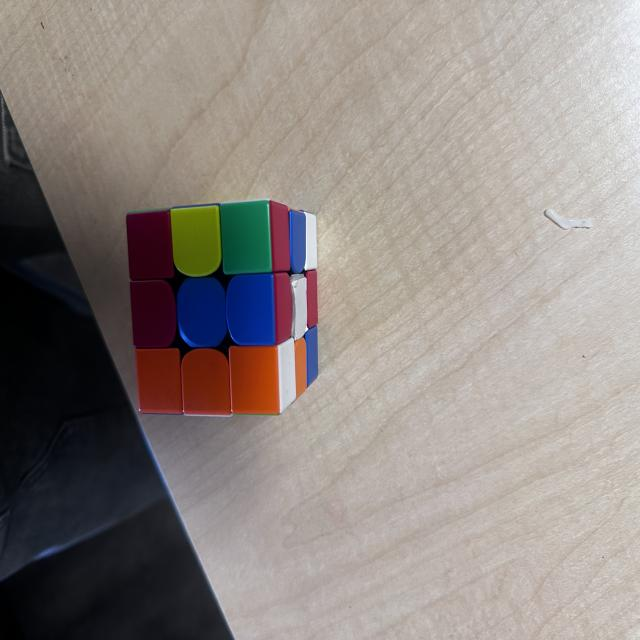sticker: (225, 271, 292, 349), (220, 200, 280, 277), (228, 339, 285, 416), (176, 273, 230, 352), (170, 205, 223, 279), (180, 346, 232, 418), (129, 278, 178, 352), (126, 208, 174, 283), (136, 346, 183, 416), (274, 336, 298, 412), (268, 200, 291, 275), (272, 271, 294, 346), (288, 208, 307, 277), (302, 210, 318, 273), (305, 324, 319, 388), (304, 268, 318, 328), (294, 335, 307, 399)
